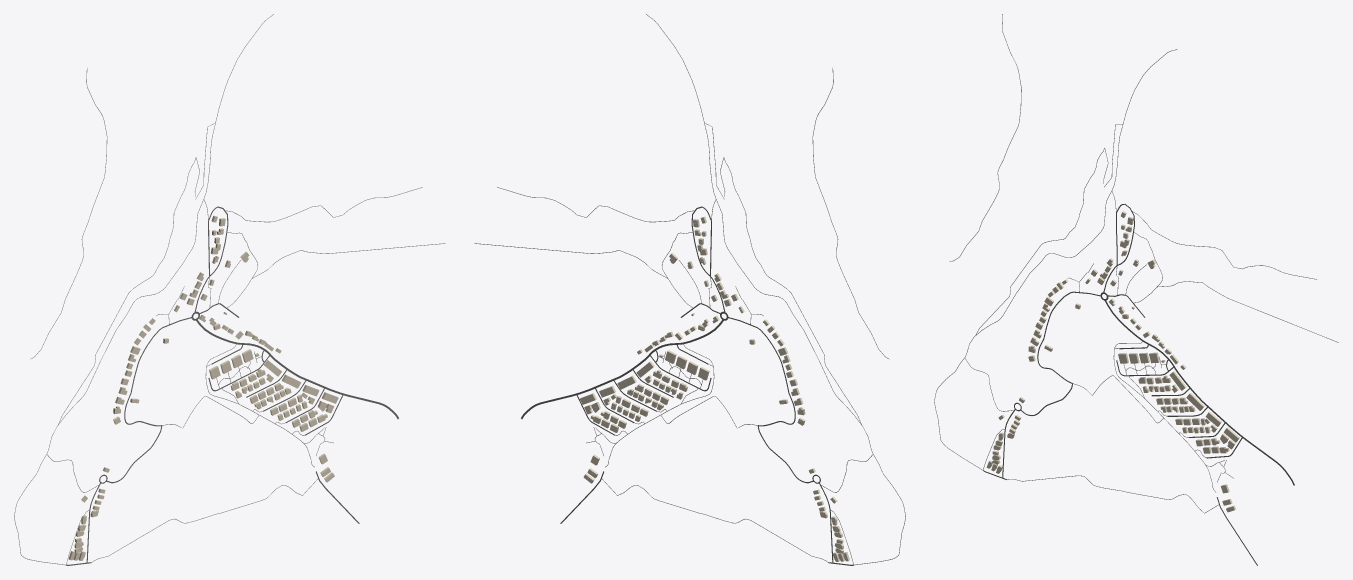
File: historic-palestine-09_22_3513_3166.glb
3 renders of one model, left to right at view 1: azimuth 30°, elevation 25°; view 2: azimuth 150°, elevation 25°; view 3: azimuth 330°, elevation 25°, orthographic. The views are drawn at different scales.
Visible parts, largest first — view 1: Road .031, Road גוש קטיף.002; view 2: Road .031, Road גוש קטיף.002; view 3: Road גוש קטיף.002, Road .031.
Boxes of the visible parts, box(x1,y1,x2,y2) form: Road .031: box(14, 14, 273, 550); Road גוש קטיף.002: box(196, 320, 398, 419); Road .031: box(646, 14, 905, 550); Road גוש קטיף.002: box(521, 319, 723, 419); Road גוש קטיף.002: box(1105, 300, 1294, 485); Road .031: box(934, 49, 1177, 435).
Size of the model in its own units: 1279 by 1503 by 8.7.
